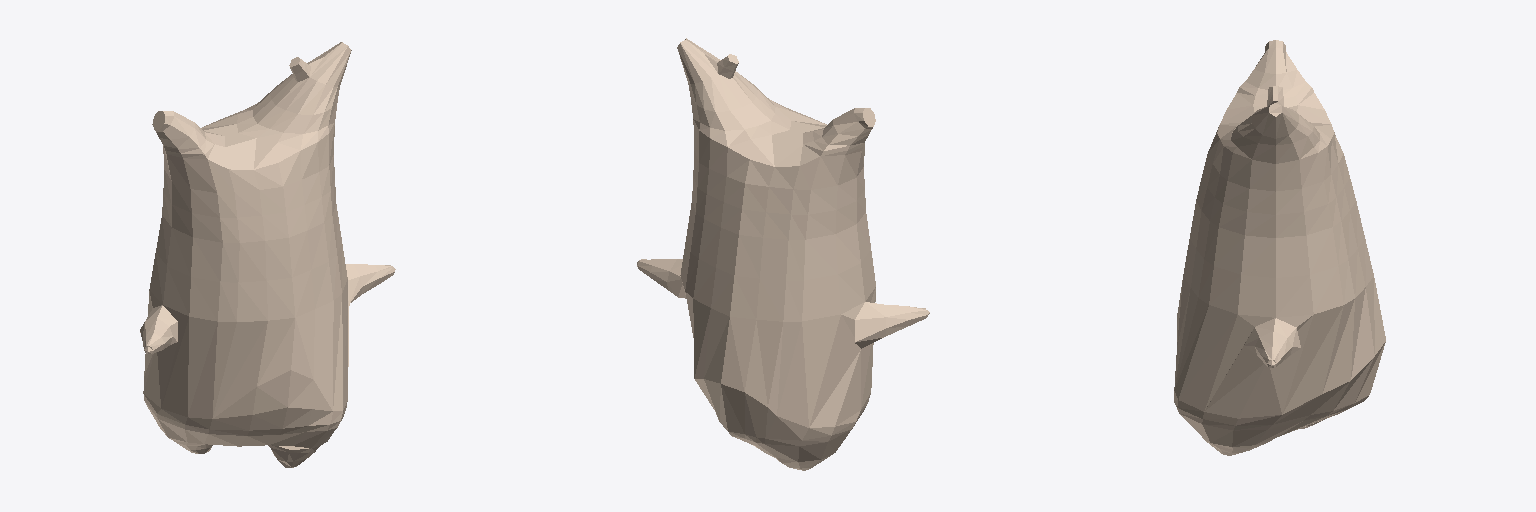
File: frame_0020.obj
The picture shows the model from 3 angles: view 1: azimuth 30°, elevation 25°; view 2: azimuth 150°, elevation 25°; view 3: azimuth 270°, elevation 25°; orthographic projection.
Visible parts, largest first — view 1: korok; view 2: korok; view 3: korok.
Part boxes in pixels (bbox=[...]): korok: bbox=[140, 42, 395, 467]; korok: bbox=[637, 38, 929, 470]; korok: bbox=[1174, 40, 1385, 455].
Bounding box in the file's own units: 1.57 × 2.16 × 1.07.